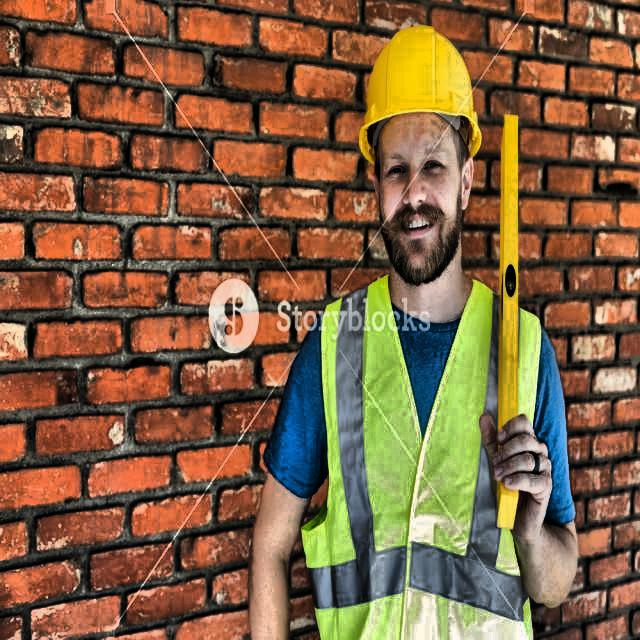person: (240, 24, 583, 640)
